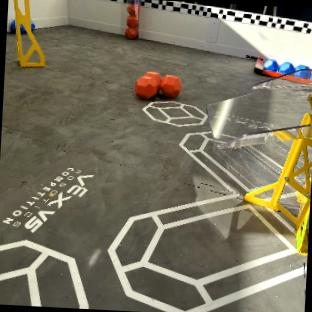V5_BLUE: (276, 61, 294, 73), (263, 58, 277, 70), (30, 21, 34, 28)
V5_RED: (134, 70, 181, 99), (125, 0, 138, 38)
